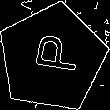P_W: (24, 36, 80, 80)
